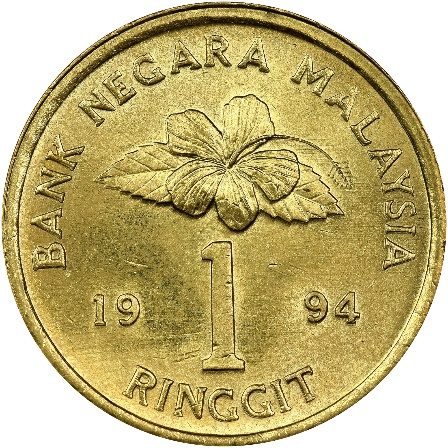1r: (2, 1, 448, 447)
